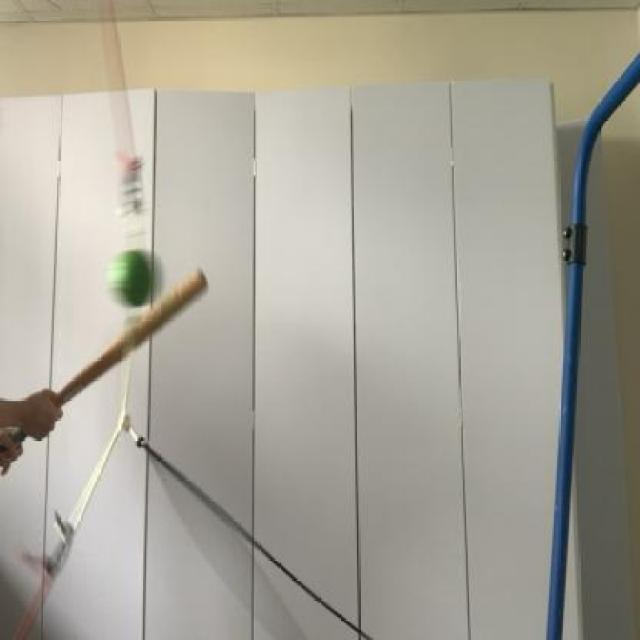baseball: (105, 238, 169, 318)
